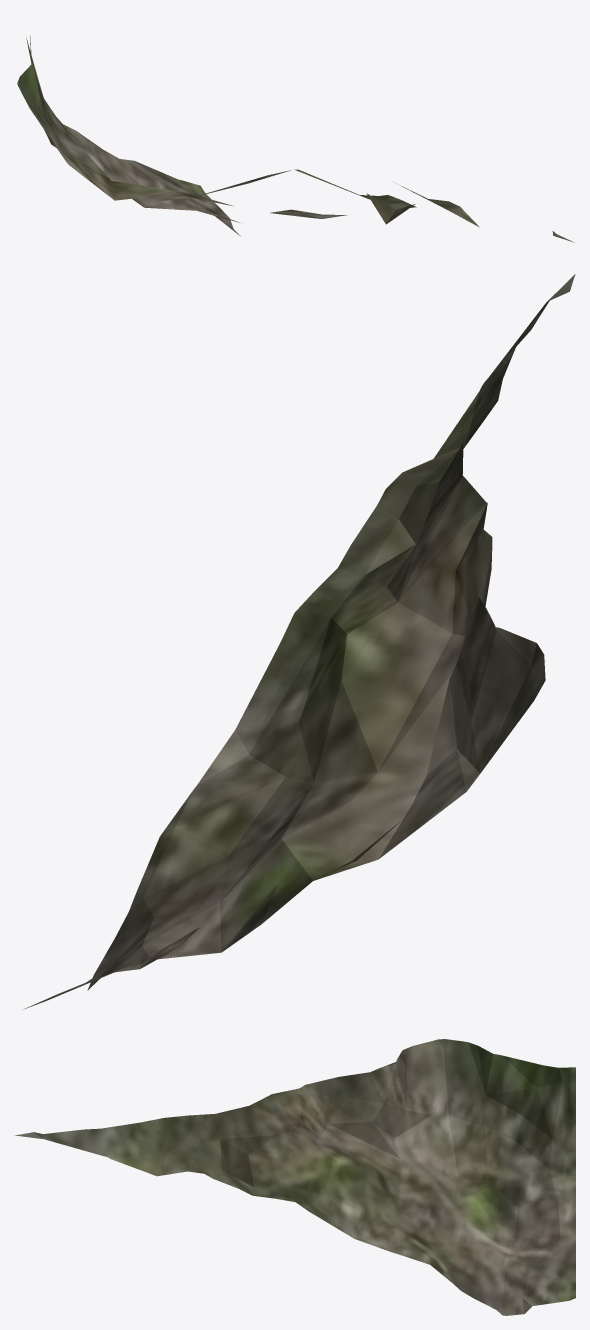
3 renders of one model, top to bottom at view 1: azimuth 30°, elevation 25°; view 2: azimuth 150°, elevation 25°; view 3: azimuth 270°, elevation 25°, orthographic. The views are drawn at different scales.
Bounding box in the file's own units: 0.6929 × 0.604 × 1.71.
Materials: 1 (1 with a texture image).
